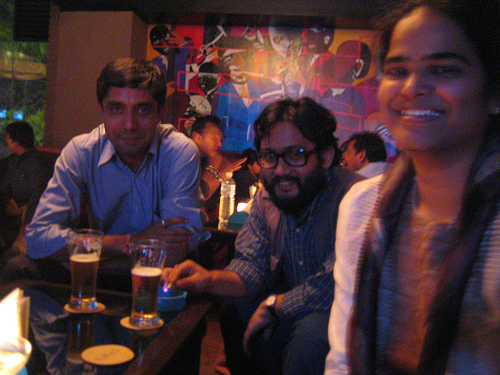without_mask: (378, 12, 485, 153), (255, 120, 332, 209), (95, 82, 167, 153), (341, 133, 382, 175), (192, 116, 224, 158), (3, 122, 38, 159)
